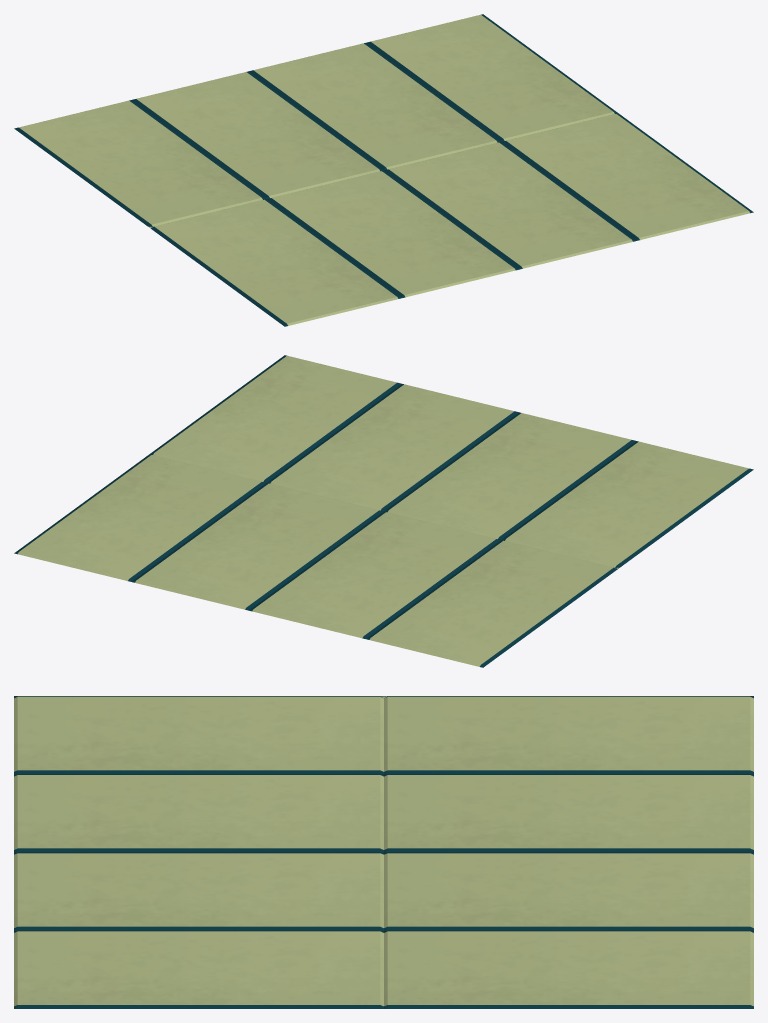
Rendered from Bld_Dojo_Floor_Tatami.fbx.
3 renders of one model, top to bottom at view 1: azimuth 30°, elevation 25°; view 2: azimuth 150°, elevation 25°; view 3: azimuth 270°, elevation 25°, orthographic. The views are drawn at different scales.
Parts seen in each view (by area): view 1: Bld_Dojo_Floor_Tatami; view 2: Bld_Dojo_Floor_Tatami; view 3: Bld_Dojo_Floor_Tatami.
Part boxes in pixels (x1,y1,x2,y2): Bld_Dojo_Floor_Tatami: (14,14,753,326); Bld_Dojo_Floor_Tatami: (14,355,753,667); Bld_Dojo_Floor_Tatami: (14,696,753,1008).
Bounding box in the file's own units: 400 × 1 × 400.
